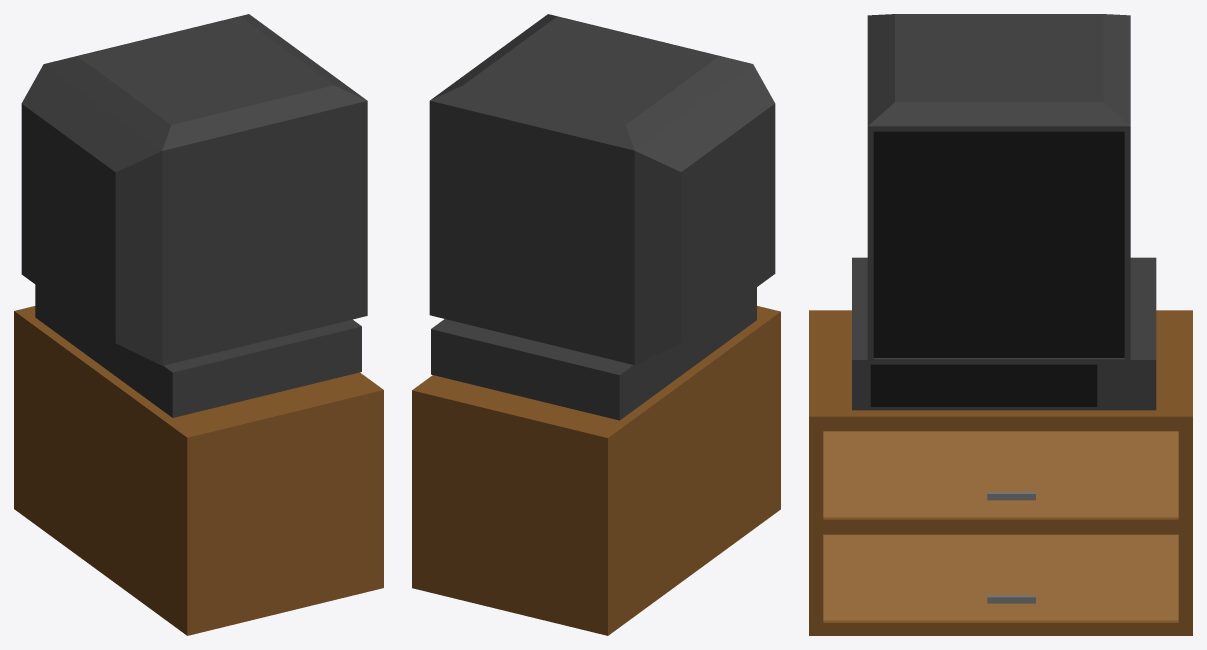
File: oldTV.fbx
The picture shows the model from 3 angles, left to right: view 1: azimuth 30°, elevation 25°; view 2: azimuth 150°, elevation 25°; view 3: azimuth 270°, elevation 25°; orthographic projection. The views are drawn at different scales.
Parts seen in each view (by area): view 1: Cube.043, Cube.054, Cube.044; view 2: Cube.043, Cube.054, Cube.044; view 3: Cube.054, Cube.043, Cube.044.
Boxes of the visible parts, x1=… form: Cube.043: x1=21, y1=14, x2=367, y2=365; Cube.054: x1=14, y1=306, x2=383, y2=635; Cube.044: x1=35, y1=284, x2=361, y2=417; Cube.043: x1=429, y1=14, x2=775, y2=365; Cube.054: x1=412, y1=306, x2=780, y2=635; Cube.044: x1=431, y1=287, x2=756, y2=420; Cube.054: x1=809, y1=310, x2=1192, y2=635; Cube.043: x1=867, y1=14, x2=1130, y2=364; Cube.044: x1=852, y1=257, x2=1156, y2=410.
Bounding box in the file's own units: 1256 × 2387 × 1572.
